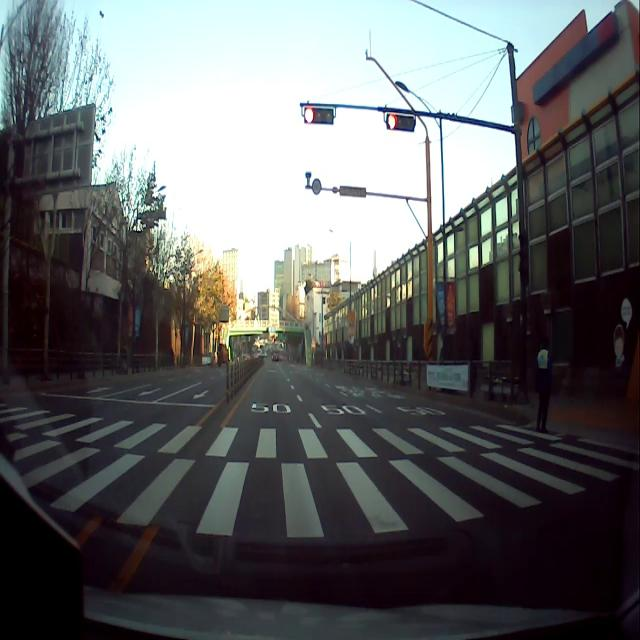Red Light: (386, 112, 398, 131), (303, 106, 315, 124)
